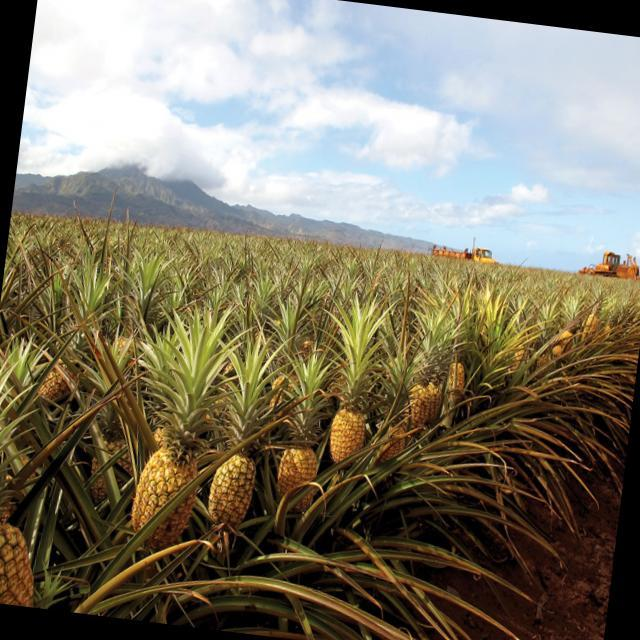PINEAPLE: (129, 408, 209, 542), (0, 473, 47, 607), (209, 414, 265, 522), (272, 408, 328, 508), (329, 374, 379, 466), (30, 340, 80, 396), (406, 365, 438, 436), (551, 296, 585, 362), (446, 354, 469, 416), (518, 343, 528, 364)
